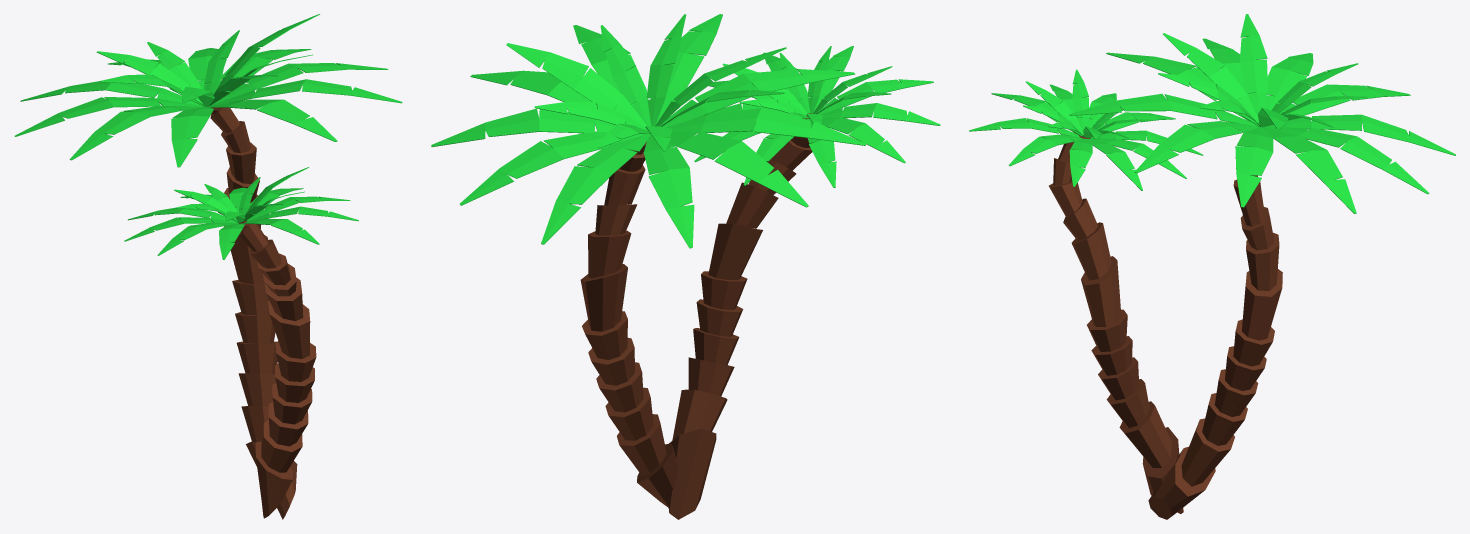
File: Doppelpalme.fbx
3 renders of one model, left to right at view 1: azimuth 30°, elevation 25°; view 2: azimuth 150°, elevation 25°; view 3: azimuth 270°, elevation 25°, orthographic. The views are drawn at different scales.
Parts seen in each view (by area): view 1: Doppelbaum; view 2: Doppelbaum; view 3: Doppelbaum.
Part boxes in pixels (x1,y1,x2,y2): Doppelbaum: [14, 14, 402, 519]; Doppelbaum: [431, 14, 940, 519]; Doppelbaum: [969, 14, 1455, 519].
Bounding box in the file's own units: 6.77 × 8.54 × 8.5.
